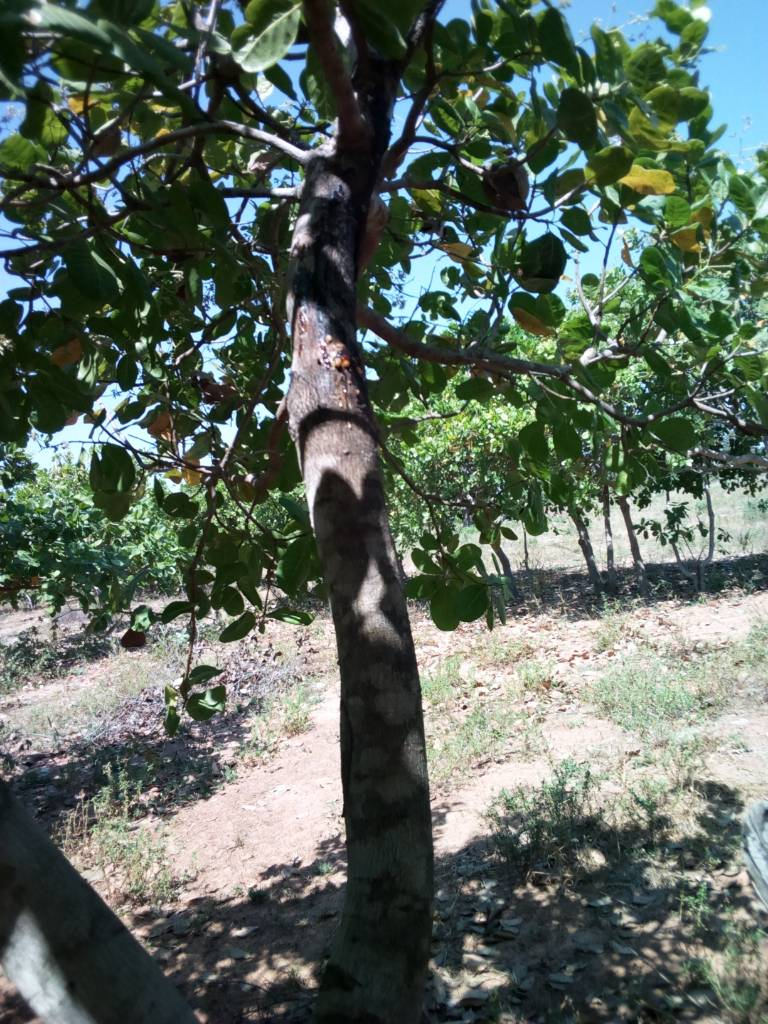Gommose: (300, 188, 375, 421)
